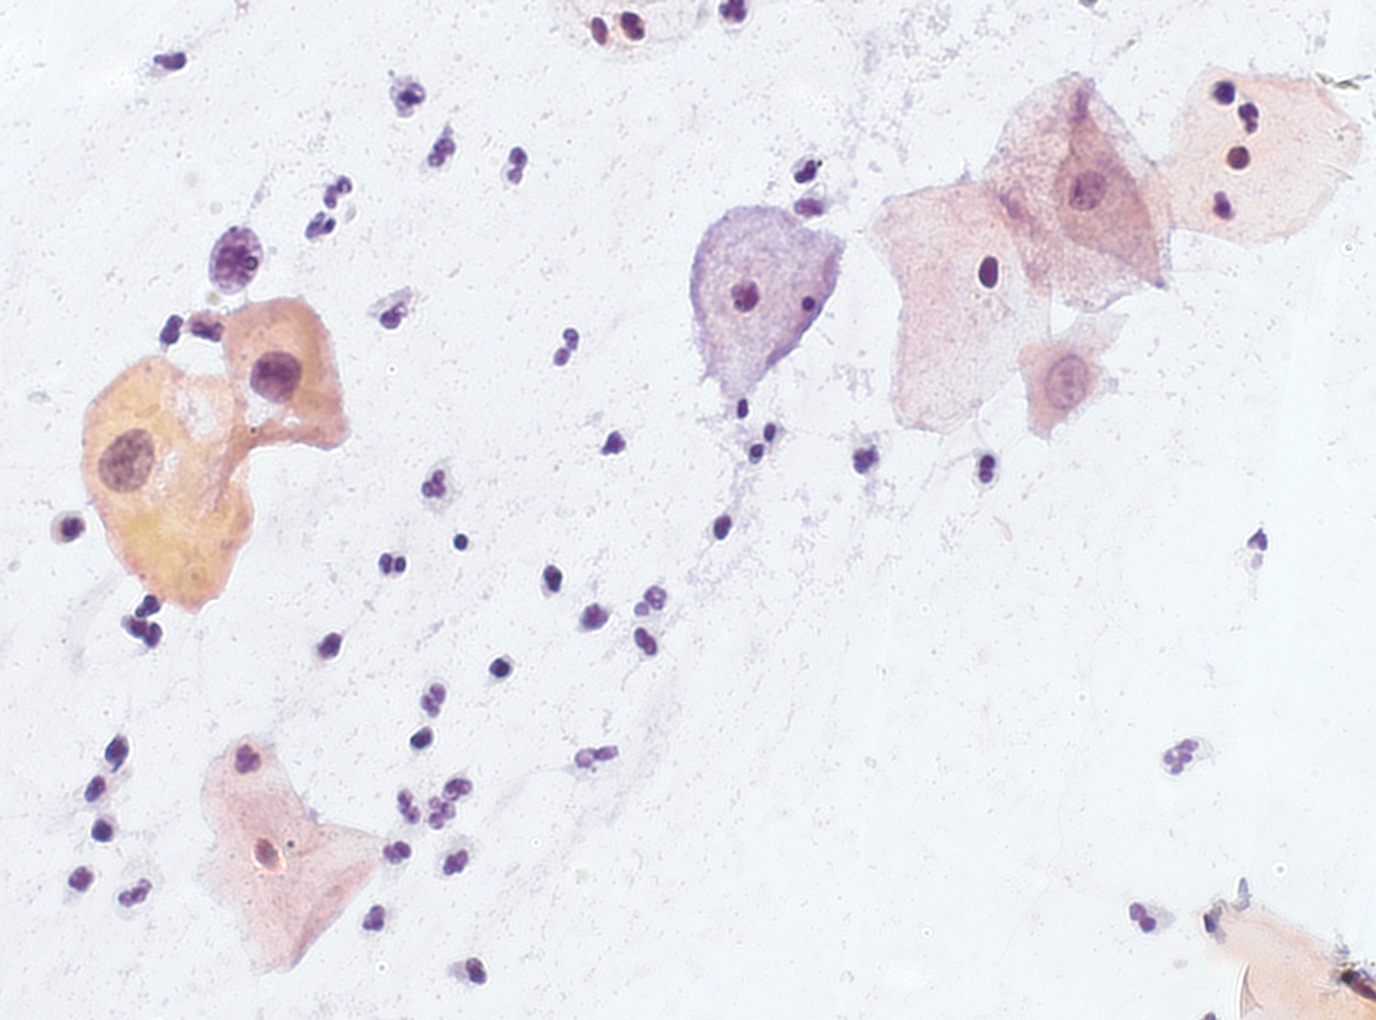Abnormal_Nucleus: (98, 427, 156, 492), (248, 349, 304, 408)
Normal_Nucleus: (1067, 168, 1107, 211), (251, 835, 284, 875), (730, 279, 761, 315), (976, 252, 1001, 290), (1222, 146, 1253, 171), (1210, 80, 1237, 105)
